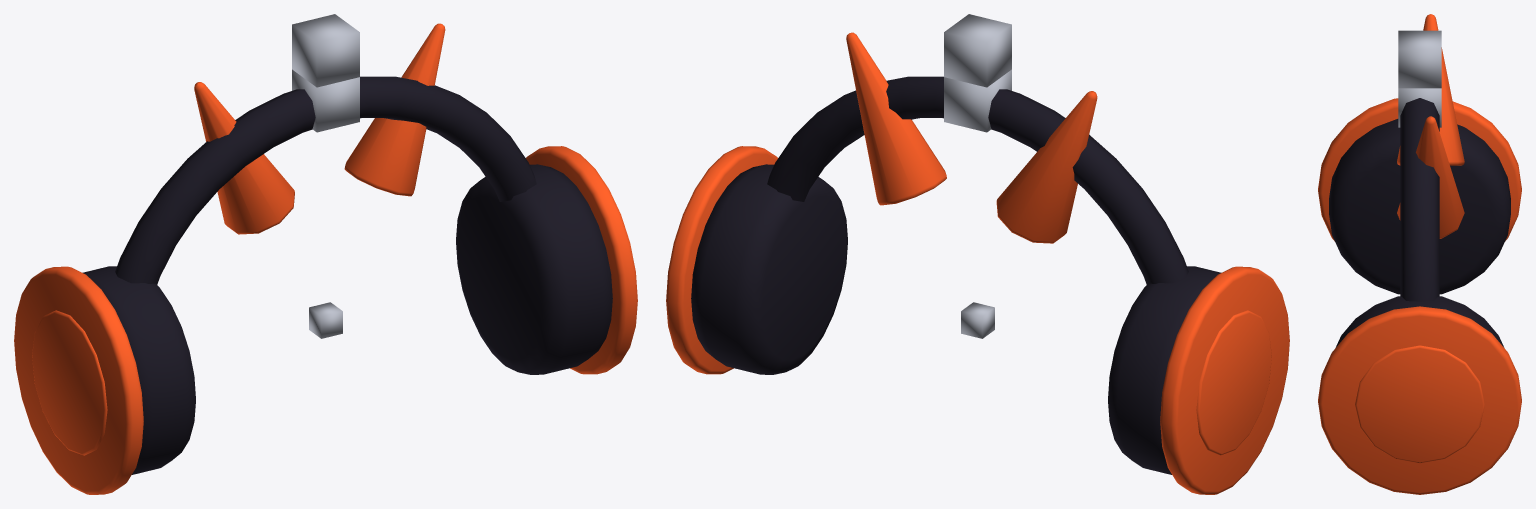
File: Primordial.fbx
The picture shows the model from 3 angles, left to right: view 1: azimuth 30°, elevation 25°; view 2: azimuth 150°, elevation 25°; view 3: azimuth 270°, elevation 25°; orthographic projection. The views are drawn at different scales.
Visible parts, largest first — view 1: Cone, Pulse_Ring-1, Lava, Pulse_Magma-1, Pulse_Ring1, FXPoint_Fire, FXPoint_Smoke, KitOrigin; view 2: Cone, Lava, Pulse_Ring-1, Pulse_Magma-1, Pulse_Ring1, FXPoint_Fire, FXPoint_Smoke, KitOrigin; view 3: Cone, Pulse_Ring1, Pulse_Magma1, Pulse_Ring-1, Lava, FXPoint_Fire, FXPoint_Smoke.
Part boxes in pixels (<box>): Cone: <box>82,76,612,474</box>; Pulse_Ring-1: <box>14,266,143,494</box>; Lava: <box>194,23,445,234</box>; Pulse_Magma-1: <box>32,310,107,455</box>; Pulse_Ring1: <box>526,146,637,374</box>; FXPoint_Fire: <box>292,14,359,87</box>; FXPoint_Smoke: <box>292,69,359,132</box>; KitOrigin: <box>309,302,342,338</box>; Cone: <box>691,76,1221,474</box>; Lava: <box>846,32,1097,243</box>; Pulse_Ring-1: <box>1160,266,1289,494</box>; Pulse_Magma-1: <box>1196,310,1271,455</box>; Pulse_Ring1: <box>666,146,777,374</box>; FXPoint_Fire: <box>944,14,1011,87</box>; FXPoint_Smoke: <box>944,69,1011,132</box>; KitOrigin: <box>961,302,994,338</box>; Cone: <box>1329,98,1510,347</box>; Pulse_Ring1: <box>1318,306,1521,494</box>; Pulse_Magma1: <box>1355,345,1484,463</box>; Pulse_Ring-1: <box>1318,98,1521,241</box>; Lava: <box>1397,14,1464,238</box>; FXPoint_Fire: <box>1398,30,1441,88</box>; FXPoint_Smoke: <box>1398,88,1441,127</box>.
Bounding box in the file's own units: 2.4 × 1.77 × 0.94.
